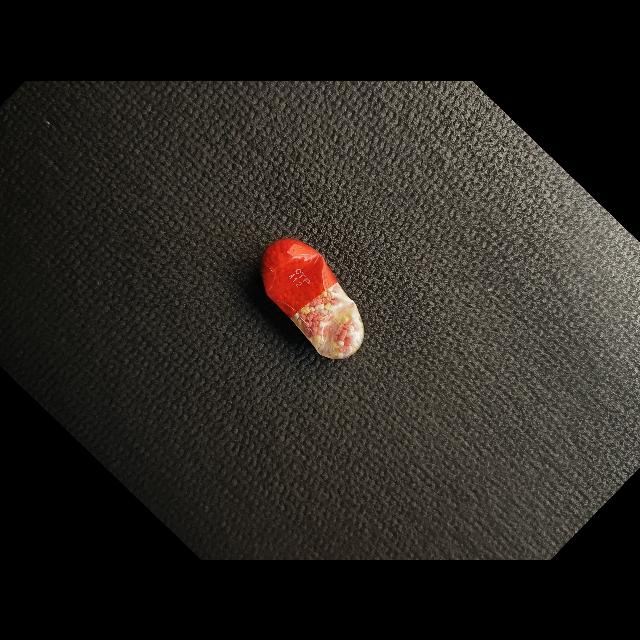Defective Capsule: (261, 238, 364, 359)
